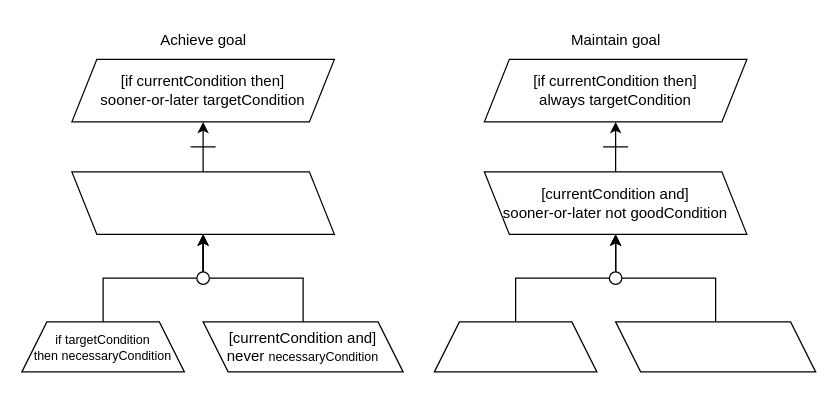
Image size: 838x394. Some labels were removed from this diagram. The shapes that lost their labels are listed below. From the top down, each one's centre as x and y in pixels, then its label:
At (x=202, y=202): "[currentCondition and] never targetCondition".
At (x=515, y=346): "if goodCondition then necessaryCondition".
At (x=715, y=346): "[currentCondition and] sooner-or-later not necessaryCondition".
